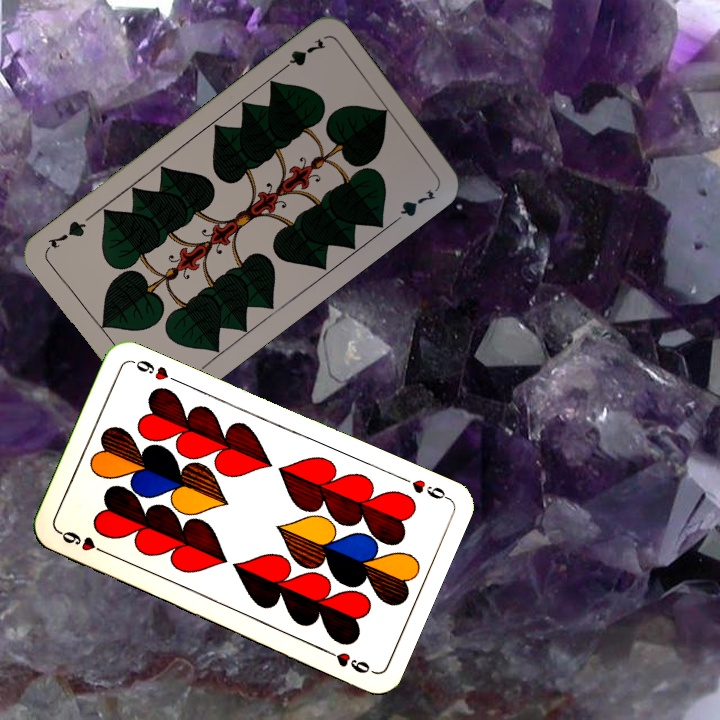G7: (275, 33, 329, 76)
H9: (55, 527, 111, 558), (395, 472, 451, 502)
